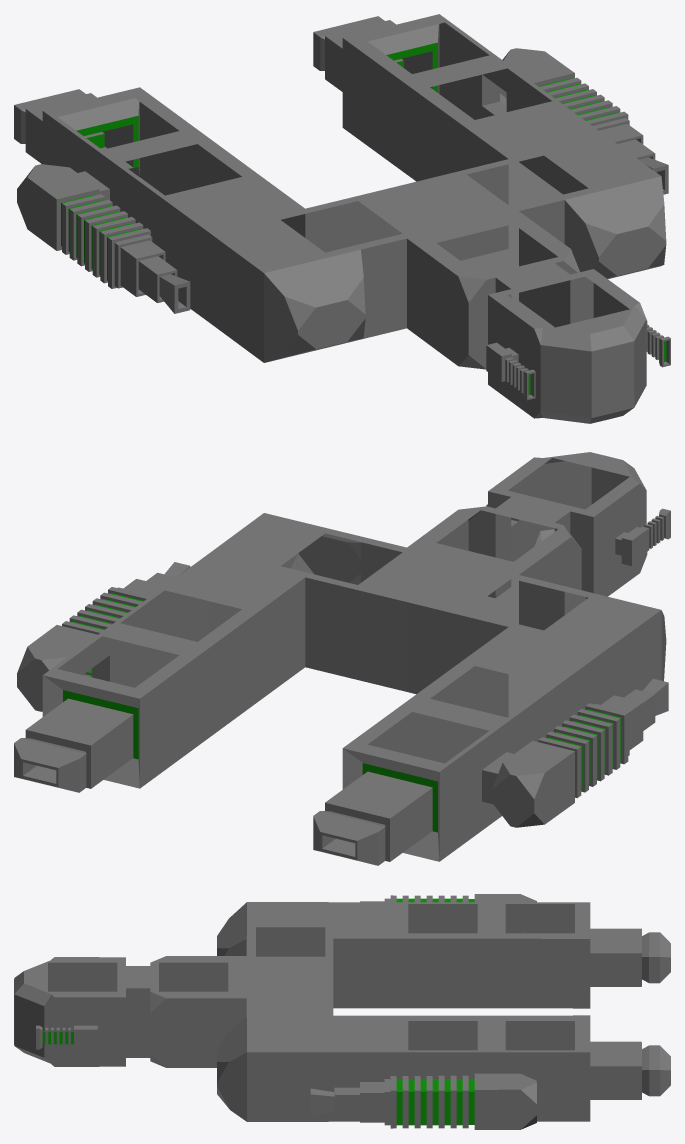
Rendered from Ship02.fbx.
3 views of the same model, one above another, from view 1: azimuth 30°, elevation 25°; view 2: azimuth 150°, elevation 25°; view 3: azimuth 270°, elevation 25° (orthographic). The views are drawn at different scales.
Parts seen in each view (by area): view 1: Ship02; view 2: Ship02; view 3: Ship02.
Part boxes in pixels (<box>): Ship02: <box>14,14,670,423</box>; Ship02: <box>14,452,670,865</box>; Ship02: <box>14,894,670,1129</box>.
Bounding box in the file's own units: 1316 × 218 × 1865.
